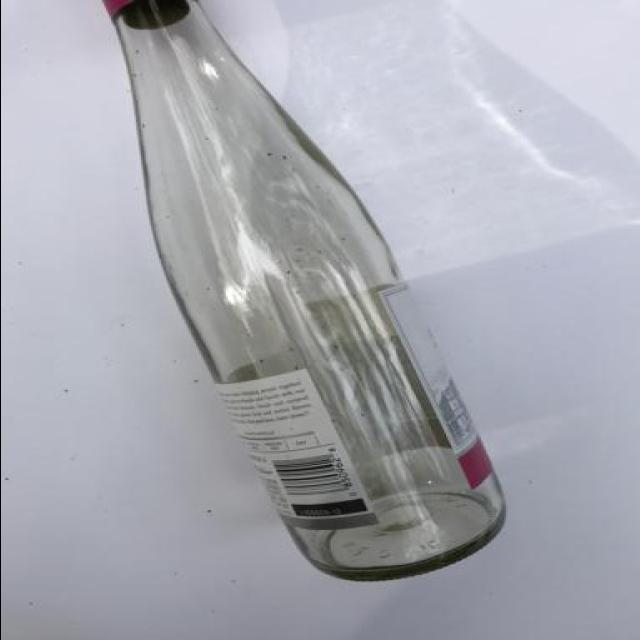litter: (98, 0, 504, 580)
